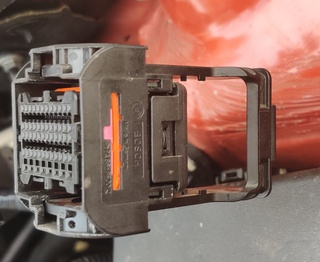connector: (11, 43, 195, 239)
